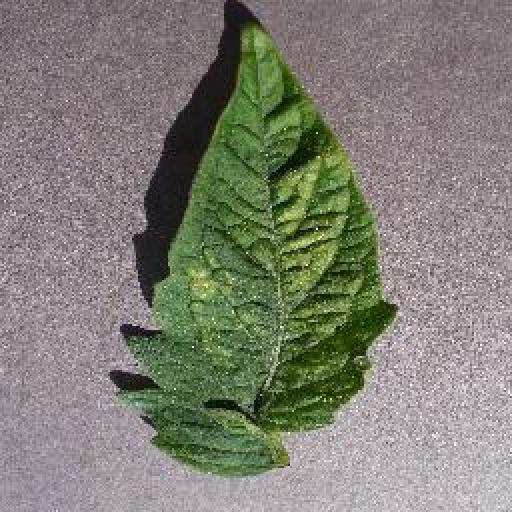Spider Mites: (115, 25, 396, 476)
